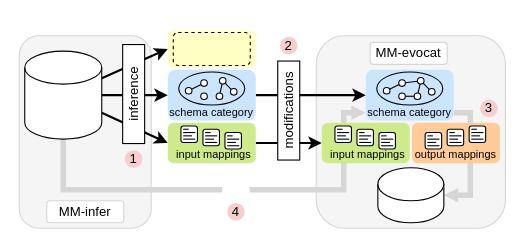
Some shapes in this 525 by 248 pixel diagram are drawn without their labels. Here are the shapes that lost their labels. From the top down, the centre of each, then its label:
At (x=211, y=48): "identifier and reference candidates".
At (x=63, y=94): "Inputs SQL, CSV, JSON, ...".
At (x=235, y=188): "data".
At (x=410, y=195): "Output".
